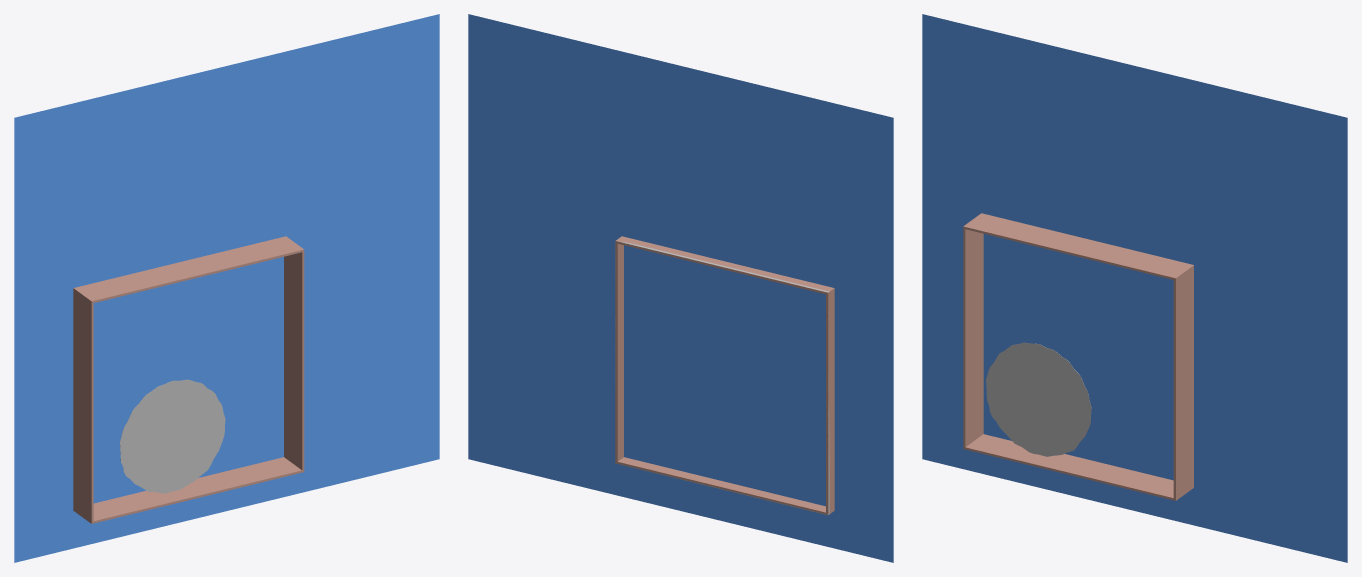
The model's file is lotus.obj.
3 views of the same model, side by side, from view 1: azimuth 30°, elevation 25°; view 2: azimuth 150°, elevation 25°; view 3: azimuth 330°, elevation 25° (orthographic).
Parts seen in each view (by area): view 1: Plane_Mesh, Room_Mesh, Leave_Mesh; view 2: Plane_Mesh, Room_Mesh, Baseboard_Mesh; view 3: Plane_Mesh, Room_Mesh, Leave_Mesh.
Boxes of the visible parts, left/top/right/bottom form: Plane_Mesh: left=14, top=14, right=439, bottom=562; Room_Mesh: left=73, top=236, right=304, bottom=523; Leave_Mesh: left=120, top=379, right=225, bottom=493; Plane_Mesh: left=468, top=14, right=893, bottom=562; Room_Mesh: left=615, top=236, right=834, bottom=514; Baseboard_Mesh: left=615, top=241, right=829, bottom=515; Plane_Mesh: left=922, top=14, right=1347, bottom=562; Room_Mesh: left=963, top=213, right=1193, bottom=500; Leave_Mesh: left=986, top=342, right=1091, bottom=456.
Bounding box in the file's own units: 20 × 20 × 2.23.
